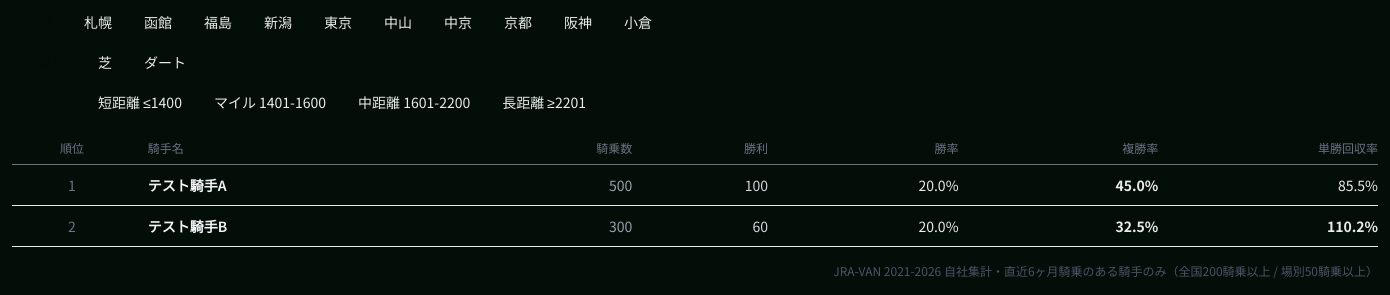
Test case: JockeysClient › 該当データなしの場合は空メッセージが表示される
Click the button "ダート" at {"x": 165, "y": 62}, box [132, 48, 198, 76]
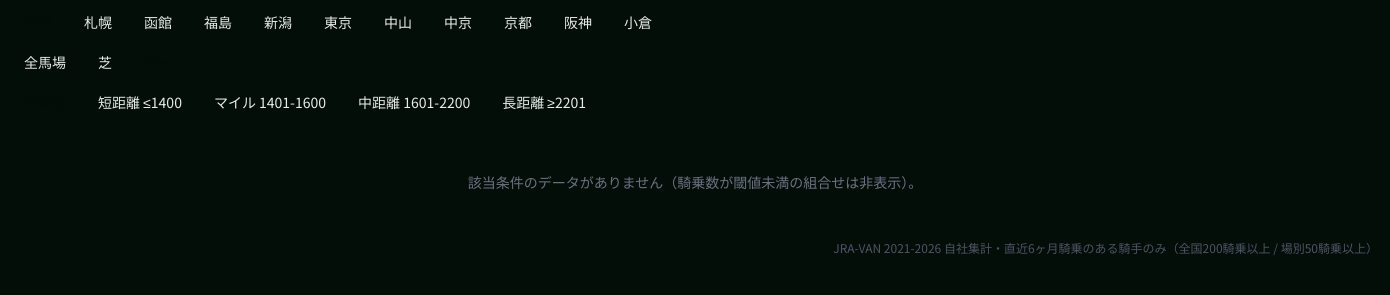
Now the text "該当条件のデータがありません（騎乗数が閾値未満の組合せは非表示）。" is shown, box [468, 172, 922, 192]
